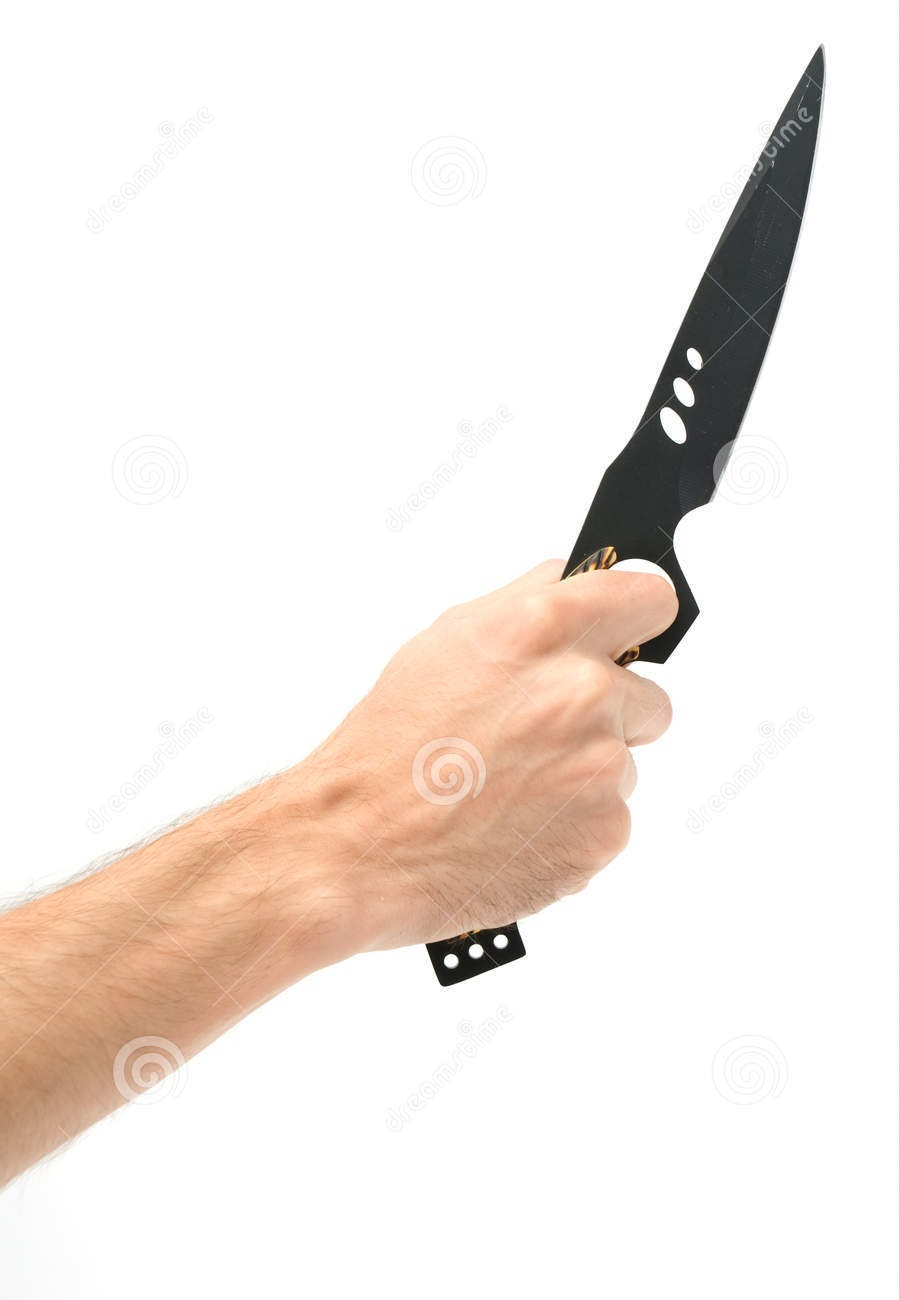knife: (511, 25, 847, 833)
